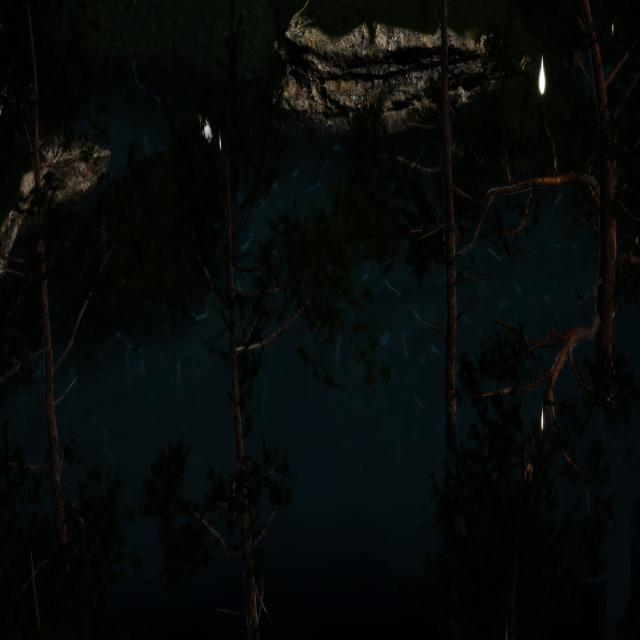Human: (196, 100, 242, 163)
